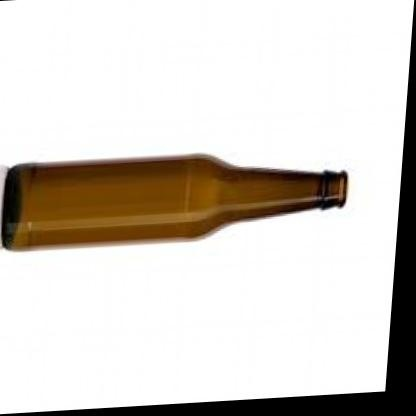trash: (2, 154, 346, 249)
